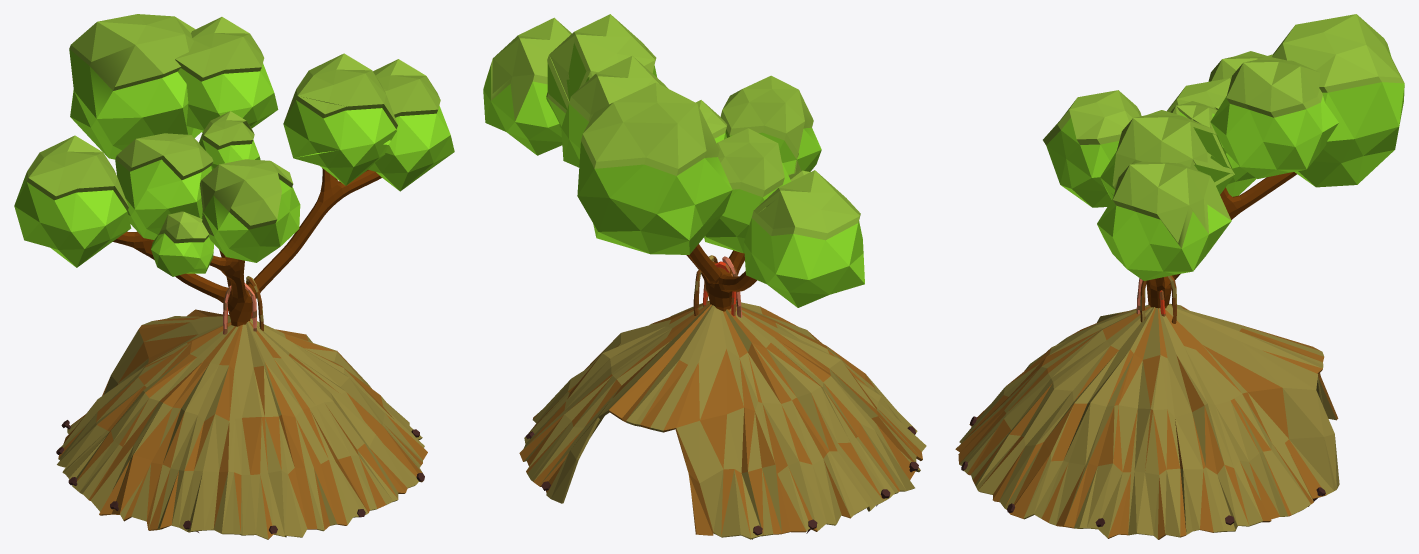
The model's file is forest_people_house_09.fbx.
3 views of the same model, side by side, from view 1: azimuth 30°, elevation 25°; view 2: azimuth 150°, elevation 25°; view 3: azimuth 270°, elevation 25° (orthographic). The views are drawn at different scales.
Visible parts, largest first — view 1: Icosphere.002; view 2: Icosphere.002; view 3: Icosphere.002.
Boxes of the visible parts, <box> form: Icosphere.002: <box>14,14,454,539</box>; Icosphere.002: <box>483,14,926,539</box>; Icosphere.002: <box>955,14,1404,539</box>.
Bounding box in the file's own units: 1427 × 1408 × 1353.
